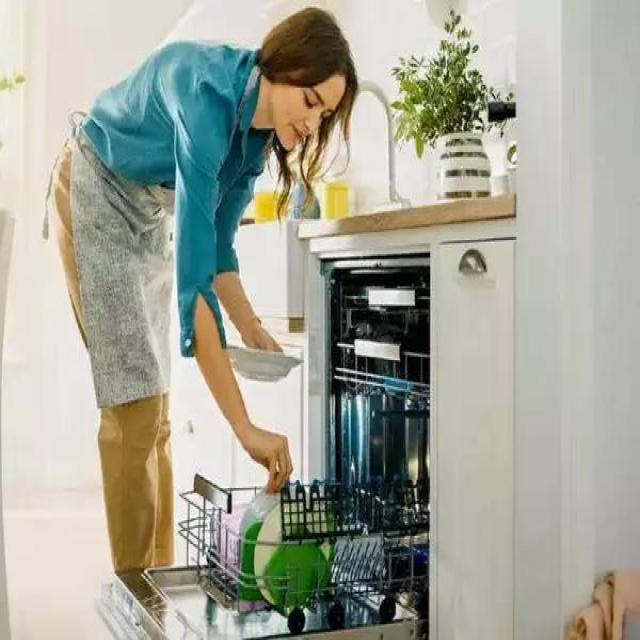dishwasher: (95, 233, 435, 640)
